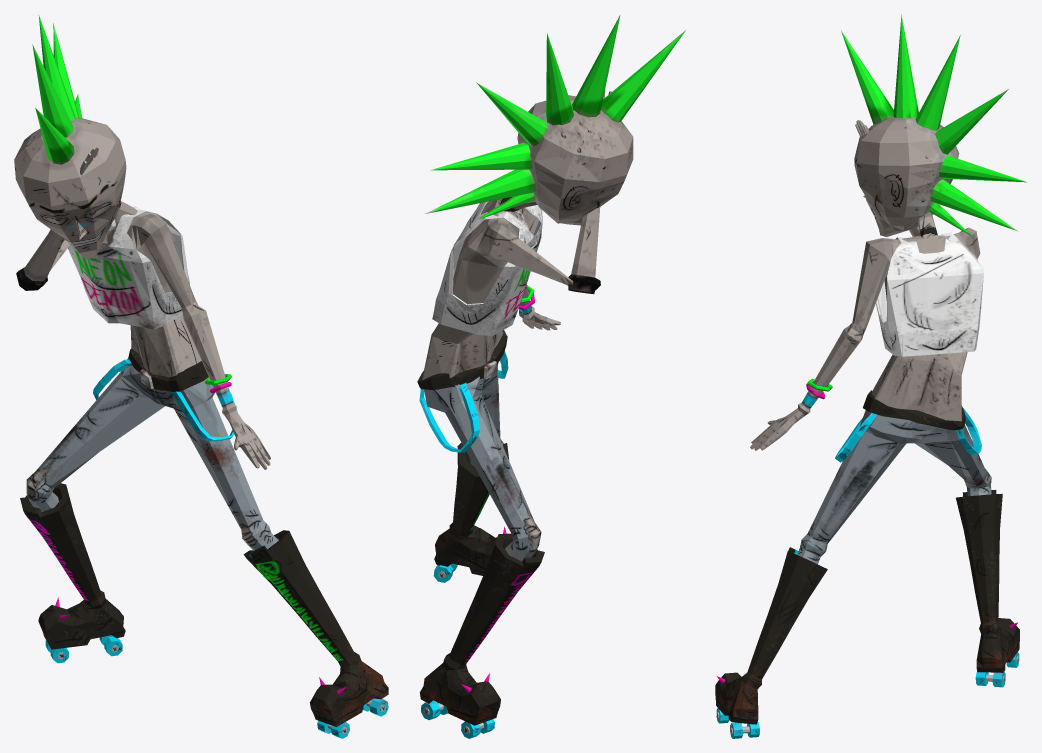
File: punkAnimation_000078.obj
The picture shows the model from 3 angles, left to right: view 1: azimuth 30°, elevation 25°; view 2: azimuth 150°, elevation 25°; view 3: azimuth 270°, elevation 25°; orthographic projection. The views are drawn at different scales.
Parts seen in each view (by area): view 1: Cube.004_Cube.003; view 2: Cube.004_Cube.003; view 3: Cube.004_Cube.003.
Boxes of the visible parts, x1,y1,x2,y2 form: Cube.004_Cube.003: (14, 14, 388, 738); Cube.004_Cube.003: (417, 15, 685, 738); Cube.004_Cube.003: (715, 14, 1026, 738).
Bounding box in the file's own units: 3.08 × 6.72 × 3.09.
